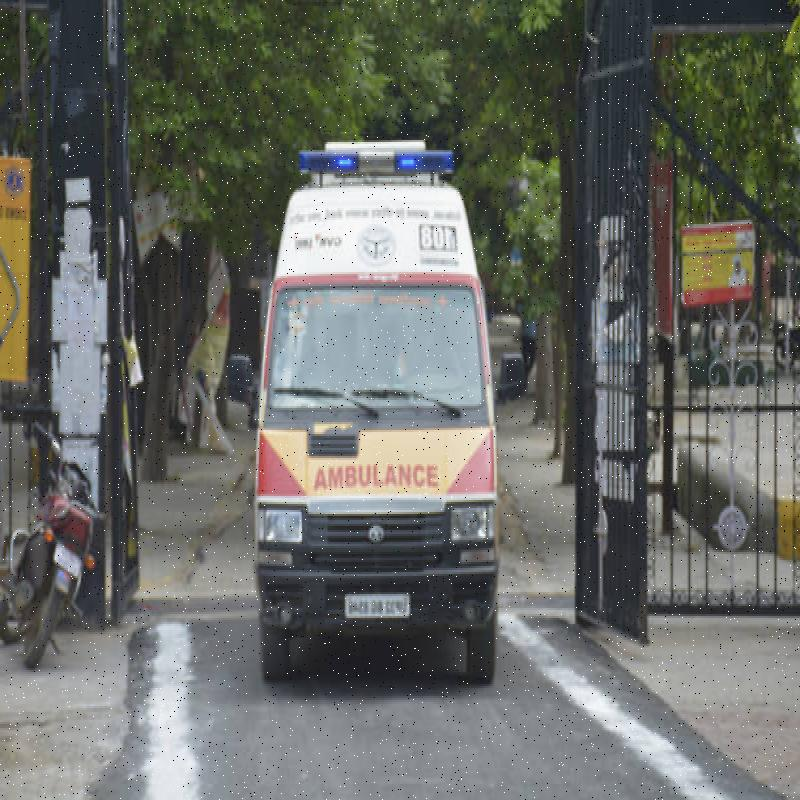ambulance: (230, 74, 512, 704)
